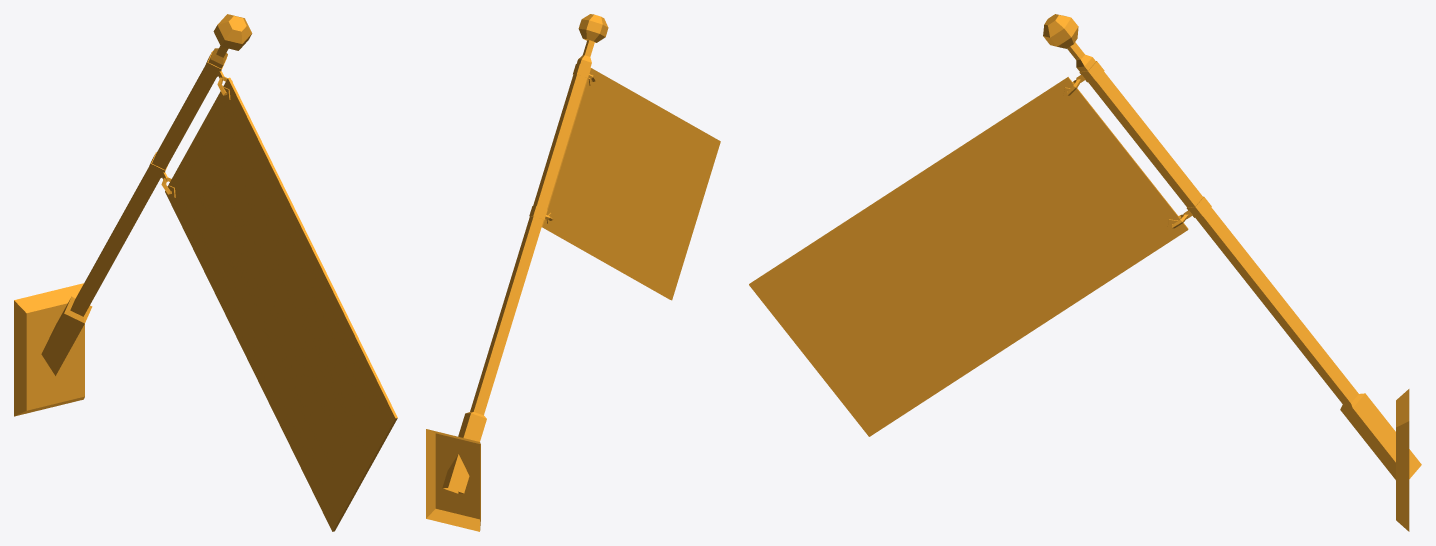
File: SM_Flag_Wall_American_Flat.fbx
The picture shows the model from 3 angles, left to right: view 1: azimuth 30°, elevation 25°; view 2: azimuth 150°, elevation 25°; view 3: azimuth 270°, elevation 25°; orthographic projection. The views are drawn at different scales.
Visible parts, largest first — view 1: flag-wall-american-flat; view 2: flag-wall-american-flat; view 3: flag-wall-american-flat.
Boxes of the visible parts, <box> form: flag-wall-american-flat: <box>14,14,397,531</box>; flag-wall-american-flat: <box>426,14,720,531</box>; flag-wall-american-flat: <box>749,14,1421,531</box>.
Bounding box in the file's own units: 0.2134 × 1.54 × 1.87.
